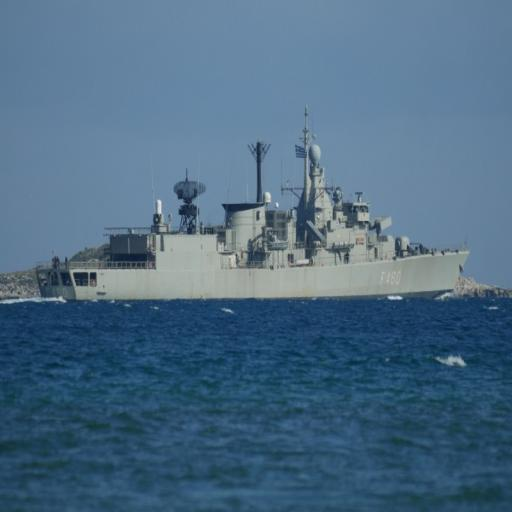Fragata: (36, 102, 475, 309)
